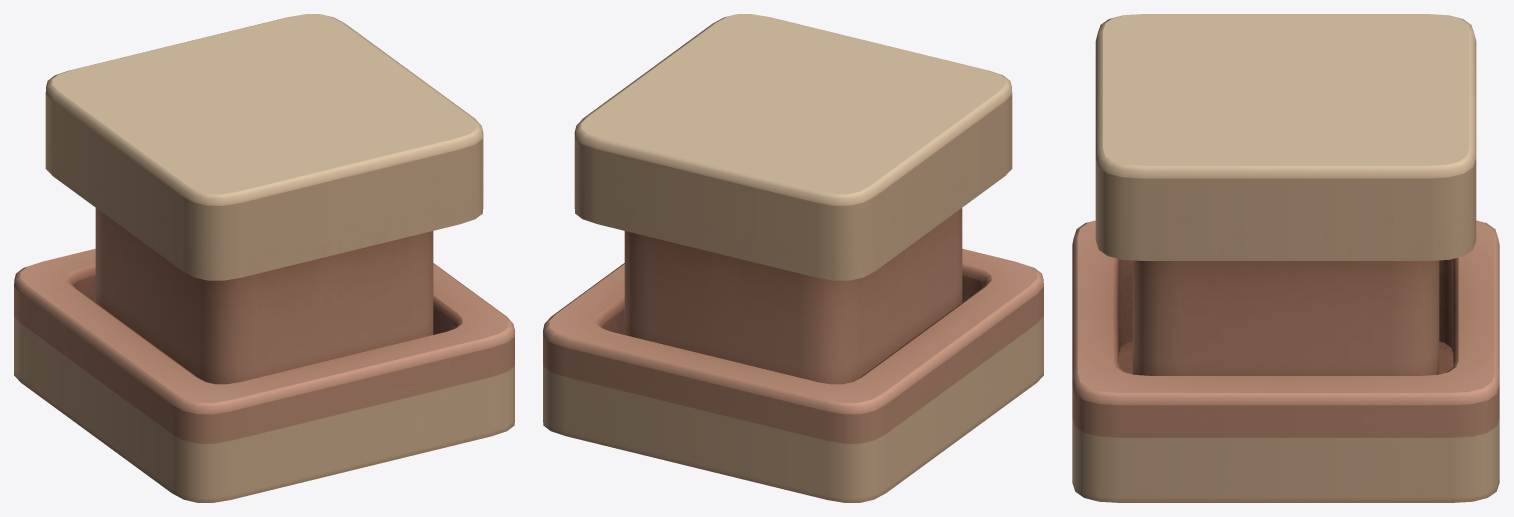
File: Props.fbx
3 views of the same model, side by side, from view 1: azimuth 30°, elevation 25°; view 2: azimuth 150°, elevation 25°; view 3: azimuth 270°, elevation 25° (orthographic). The views are drawn at different scales.
Visible parts, largest first — view 1: Box; view 2: Box; view 3: Box.
Boxes of the visible parts, <box> form: Box: <box>14,14,514,502</box>; Box: <box>543,14,1043,502</box>; Box: <box>1072,14,1499,502</box>.
Size of the model in its own units: 4.5 by 3.75 by 4.5.
